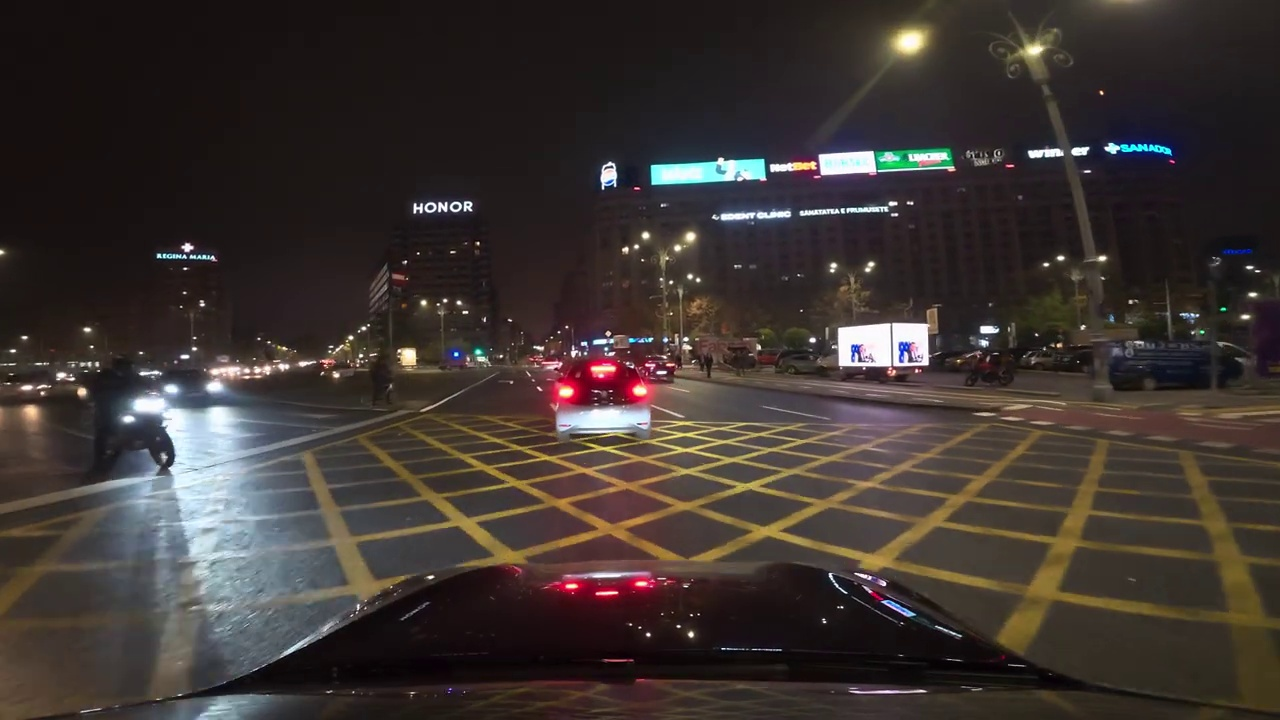acesa: (891, 27, 928, 58)
